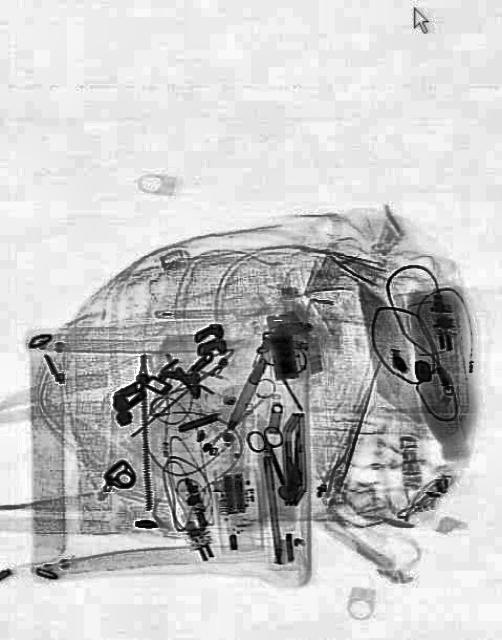Scissors: (244, 417, 298, 493)
